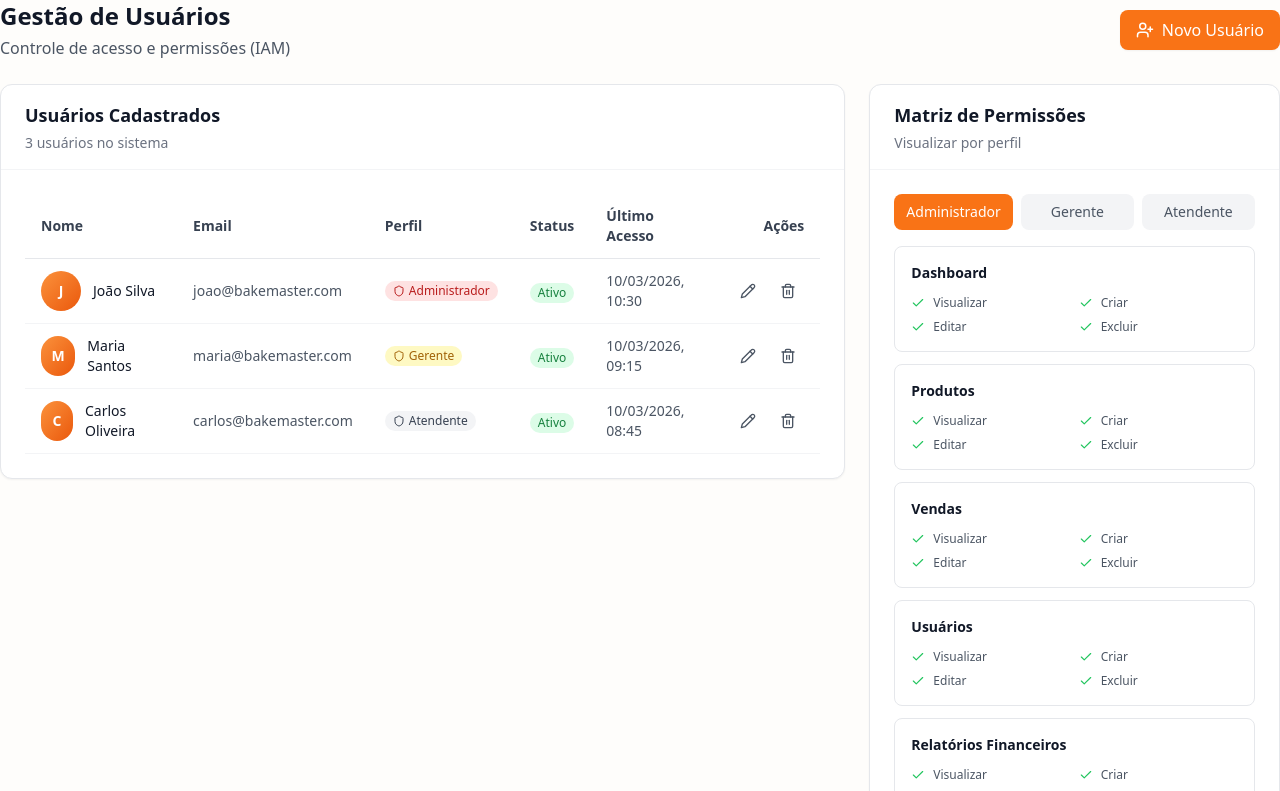
Test case: Users › Create User › opens form when clicking "Novo Usuário"
What coordinates should you click on to do the following:
click the button "Novo Usuário"
I would click on:
 (1200, 30)
Its box is [1120,10,1279,50].
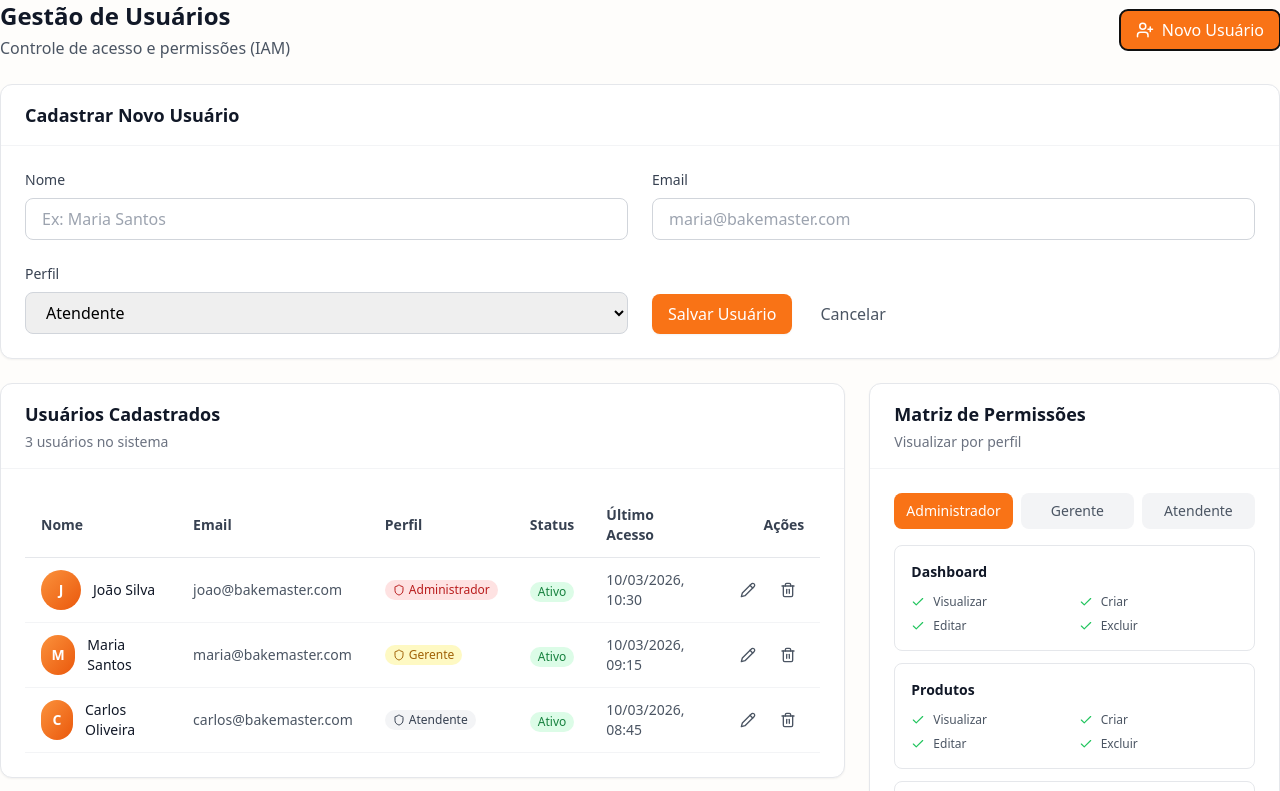
Check: the heading "Cadastrar Novo Usuário" is shown, box [25,101,239,129]
Check: the field with placeholder "Ex: Maria Santos" is shown, box [25,198,628,240]
Check: the field with placeholder "maria@bakemaster.com" is shown, box [652,198,1255,240]
